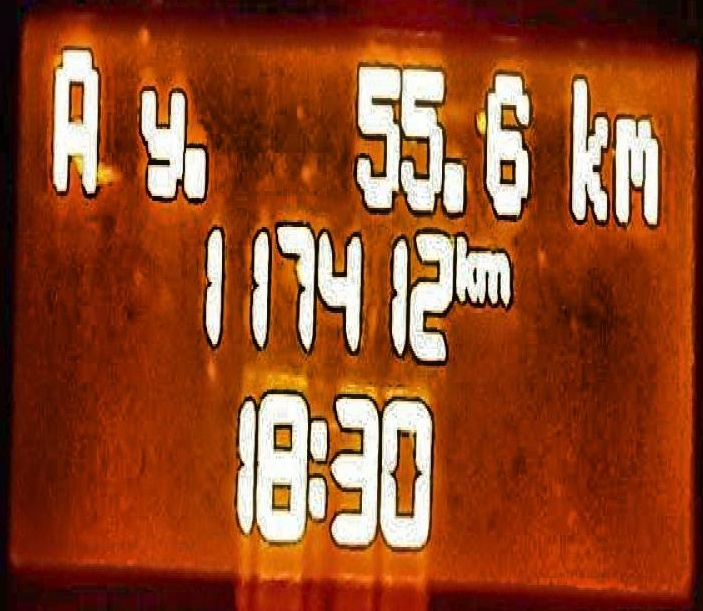-: (184, 134, 209, 208), (443, 152, 468, 217)
0: (380, 391, 433, 556)
1: (196, 215, 229, 353), (242, 217, 271, 353), (229, 387, 254, 540), (385, 229, 408, 360)
2: (408, 224, 453, 365)
3: (328, 384, 378, 556)
4: (315, 224, 363, 353)
5: (348, 55, 399, 215), (402, 55, 443, 217)
6: (481, 62, 534, 222)
7: (274, 212, 314, 358)
8: (257, 382, 306, 547)
X: (48, 36, 103, 201), (564, 67, 609, 227), (612, 105, 662, 227), (135, 78, 183, 205), (478, 241, 513, 308), (307, 413, 327, 525), (454, 219, 477, 308)
